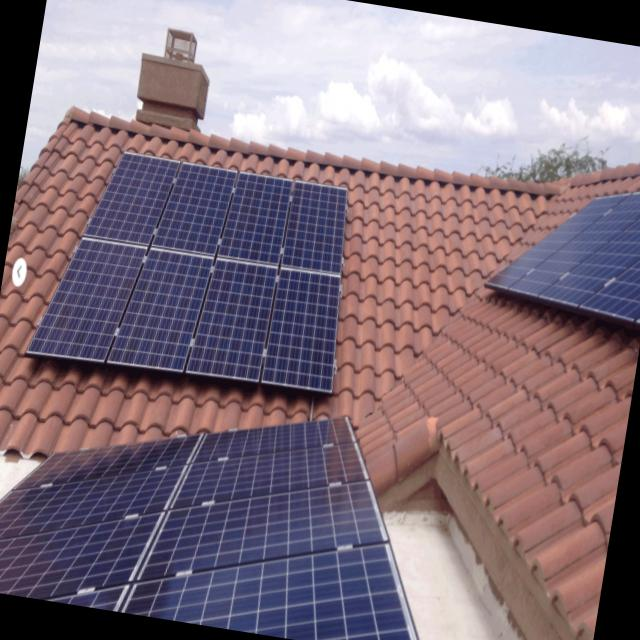no faulty: (0, 415, 410, 640), (33, 154, 346, 391), (491, 192, 640, 298)
